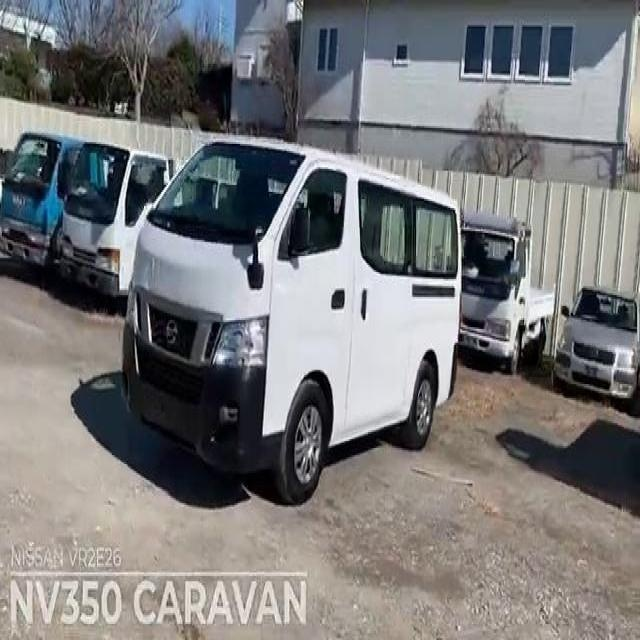Van: (124, 140, 464, 512)
